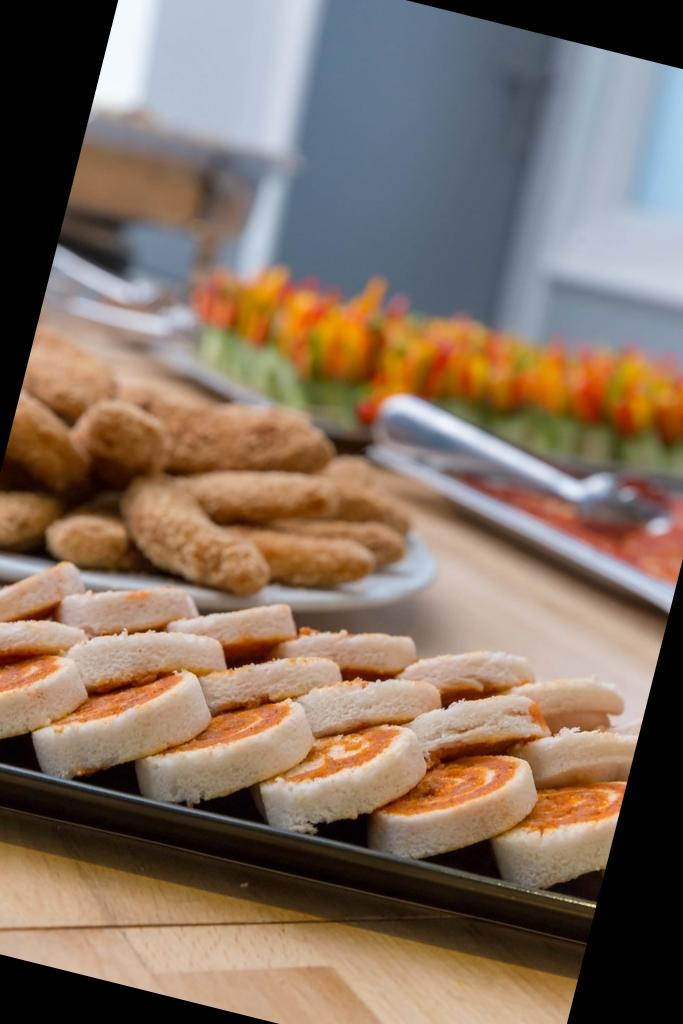sweet: (0, 449, 637, 935)
